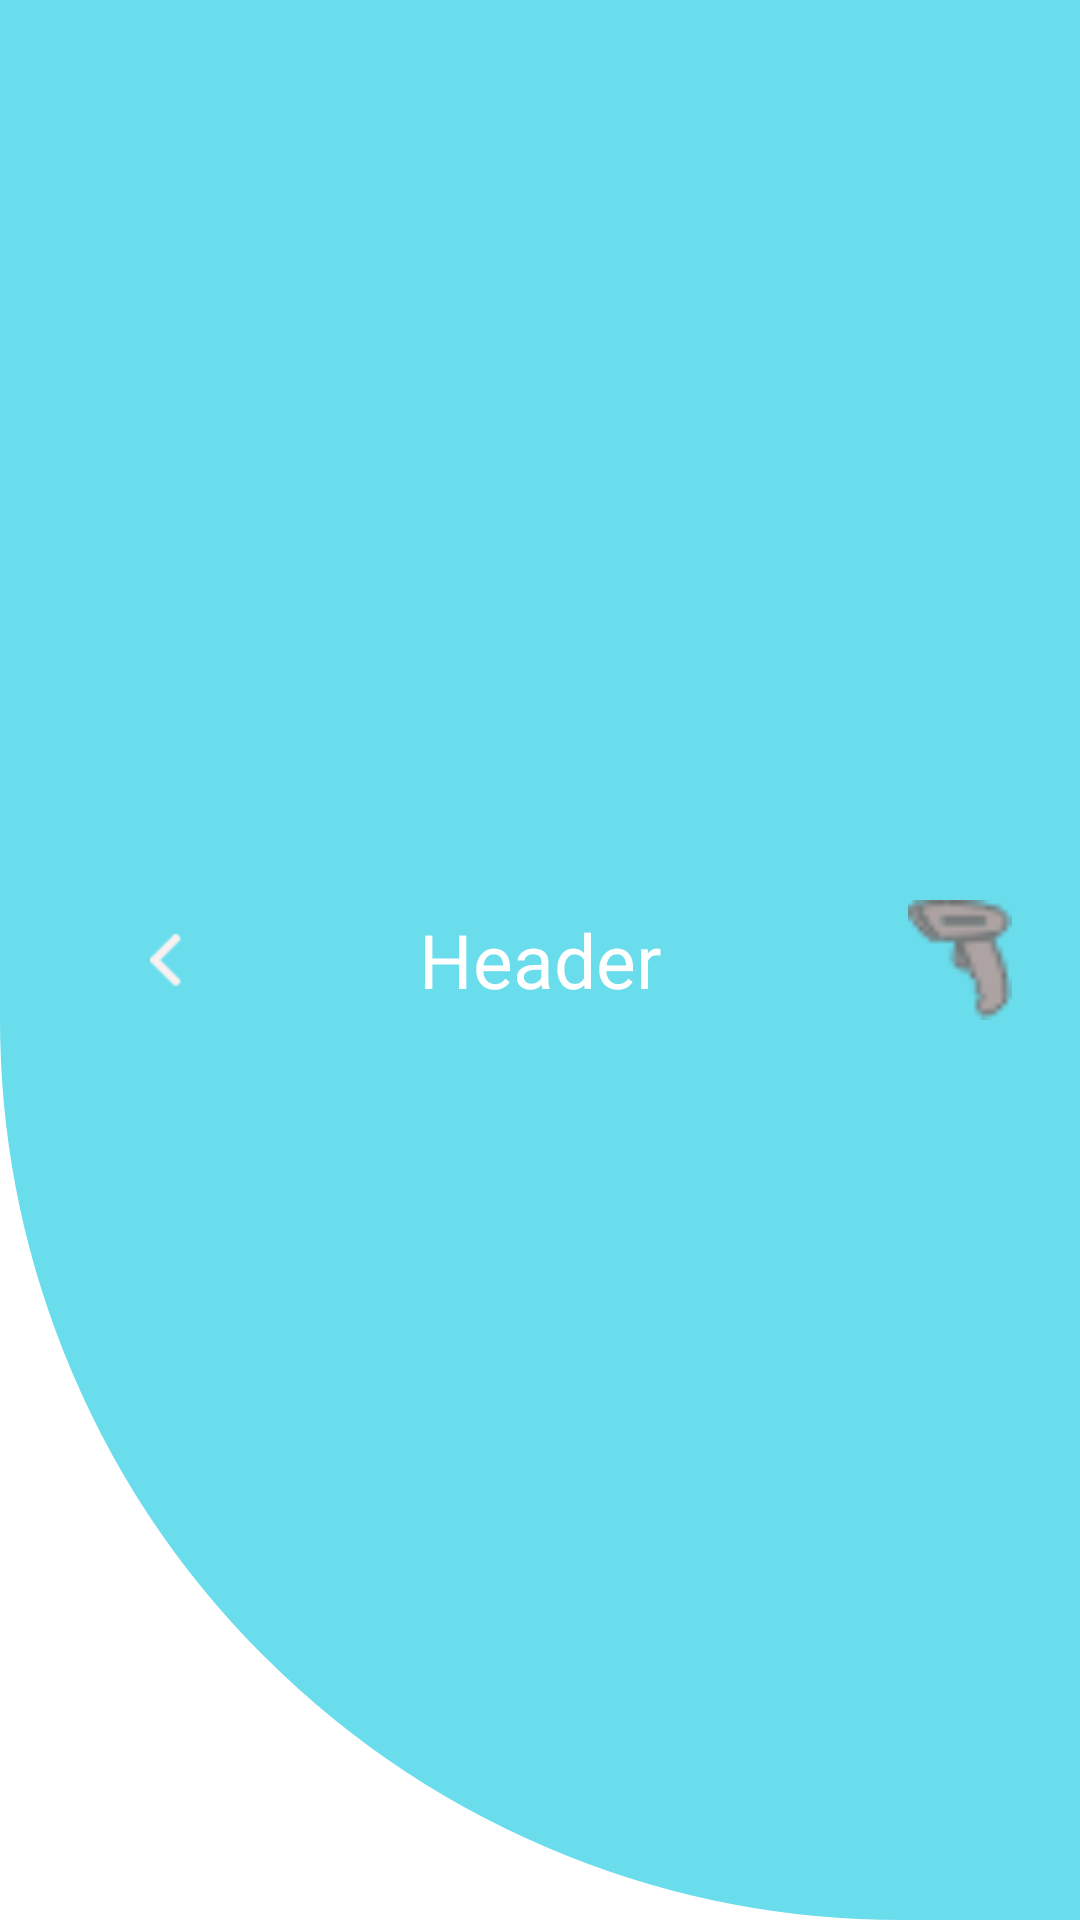

Locate icon controls on the screen. Image size 1080*1920, boxes as {"left": x1, "top": y1, "right": x2, "bottom": y2}.
back: {"left": 150, "top": 934, "right": 181, "bottom": 986}
scanner: {"left": 908, "top": 900, "right": 1012, "bottom": 1020}
